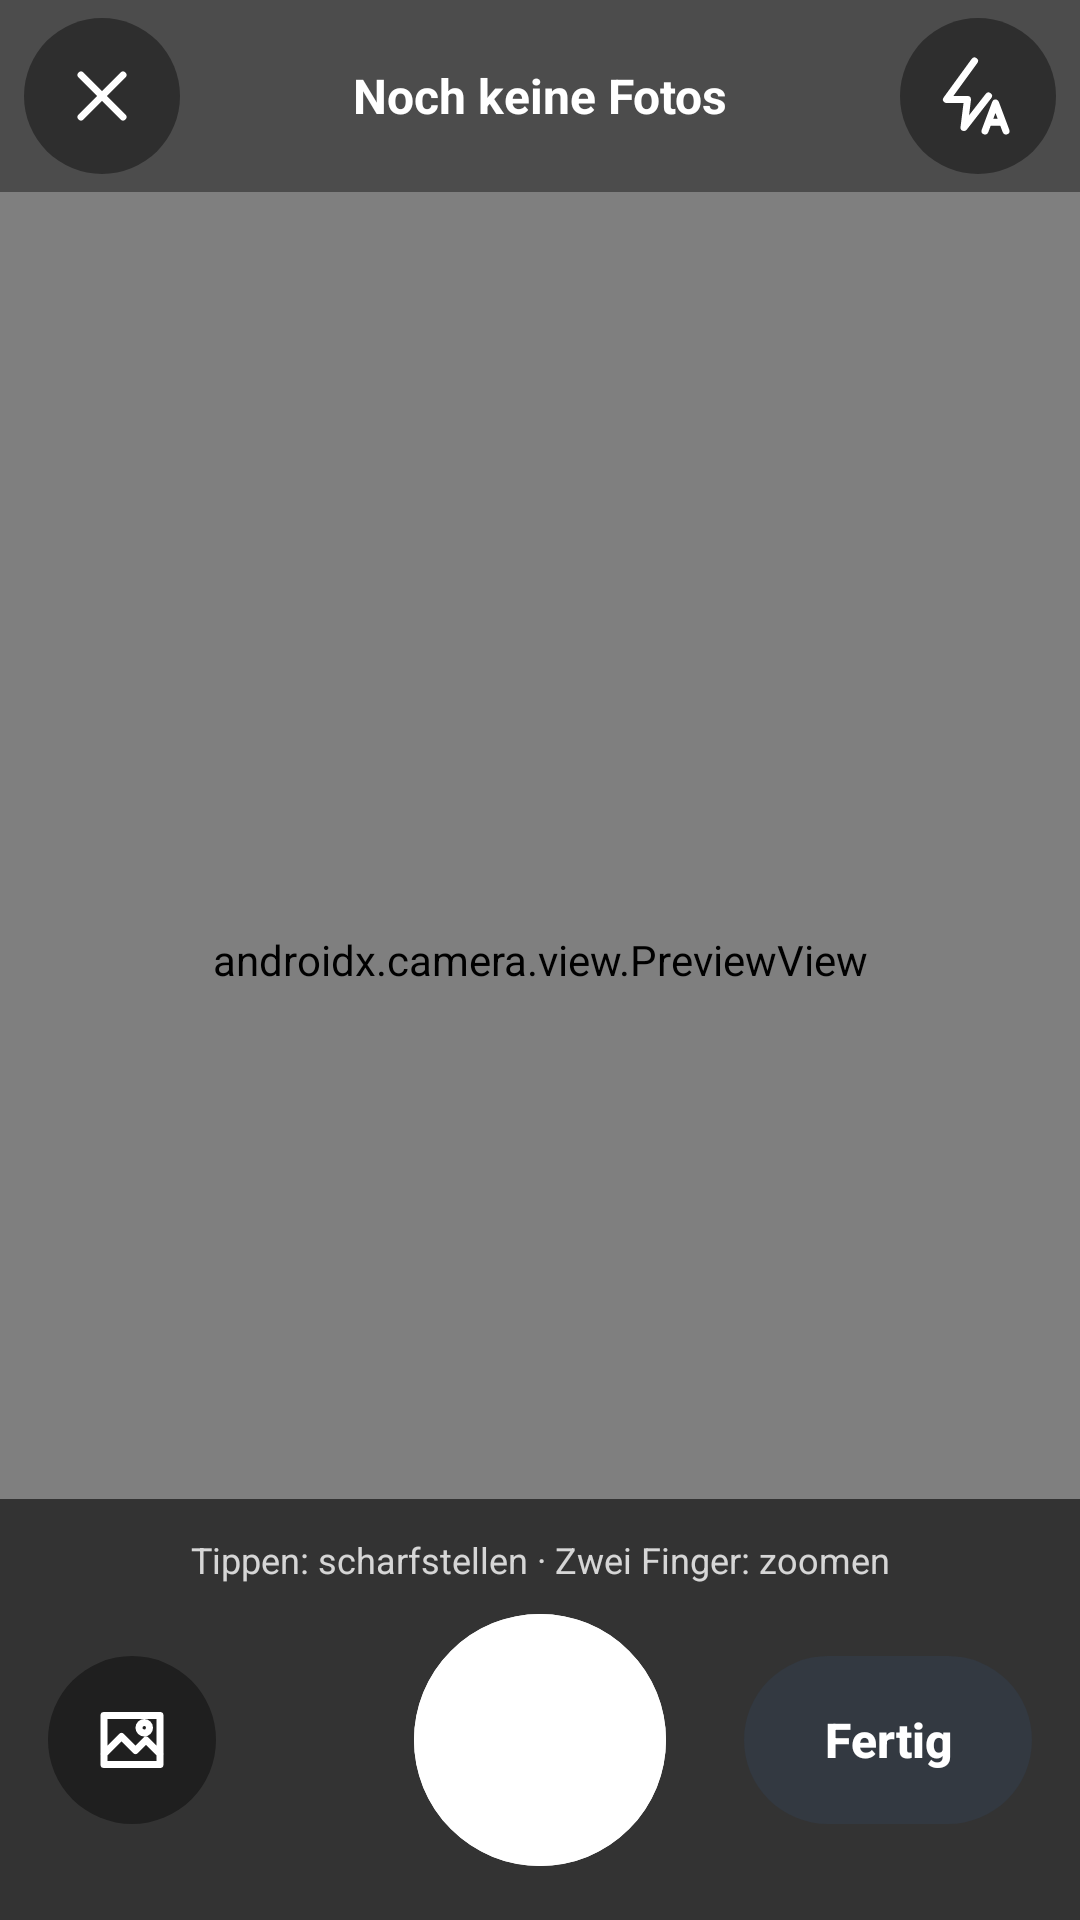

Screen size 1080*1920. Icon name, then its center in pixels as [x,y]:
Aus der Galerie wählen: [132,1740]
blitz auto: [978,96]
Kamera schließen: [102,96]
